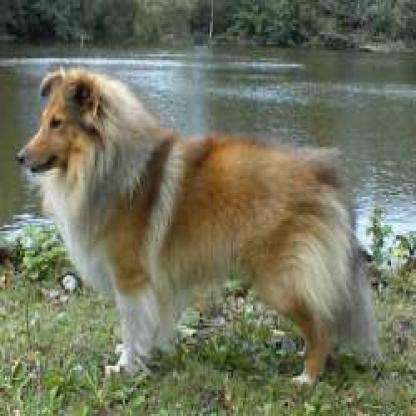Shetland_sheepdog: (13, 62, 385, 388)
